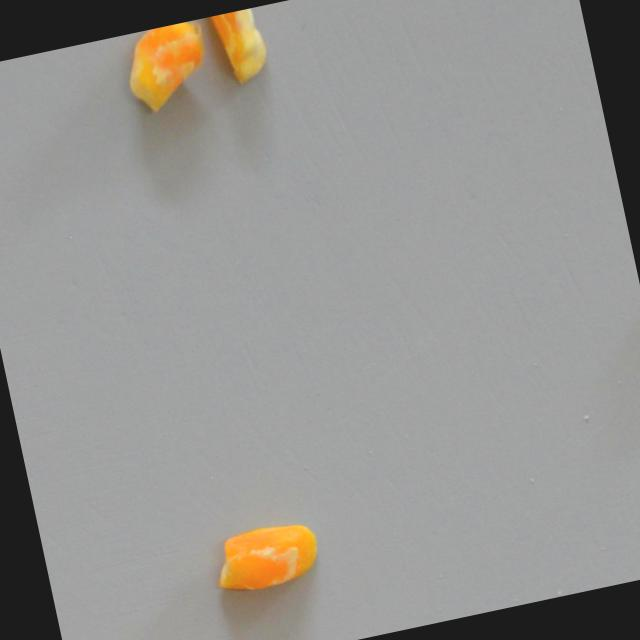pelicula: (118, 18, 220, 119), (203, 516, 324, 599), (203, 6, 274, 92)
